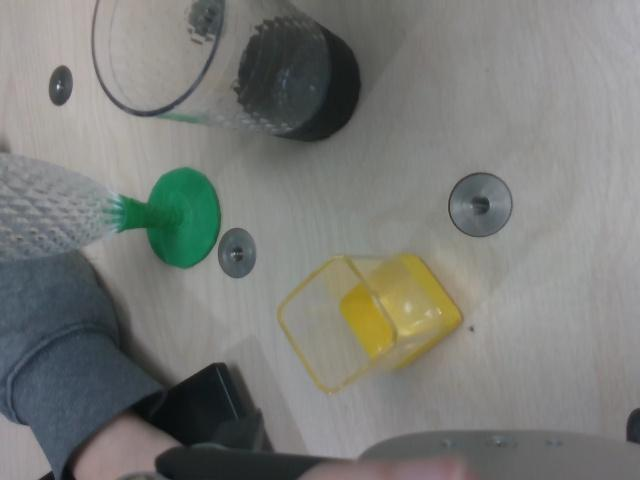black_cup: (236, 20, 362, 144)
green_cup: (118, 166, 221, 269)
yellow_cup: (338, 254, 463, 372)
